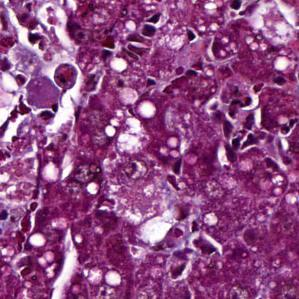ballooning: (114, 114, 153, 156)
